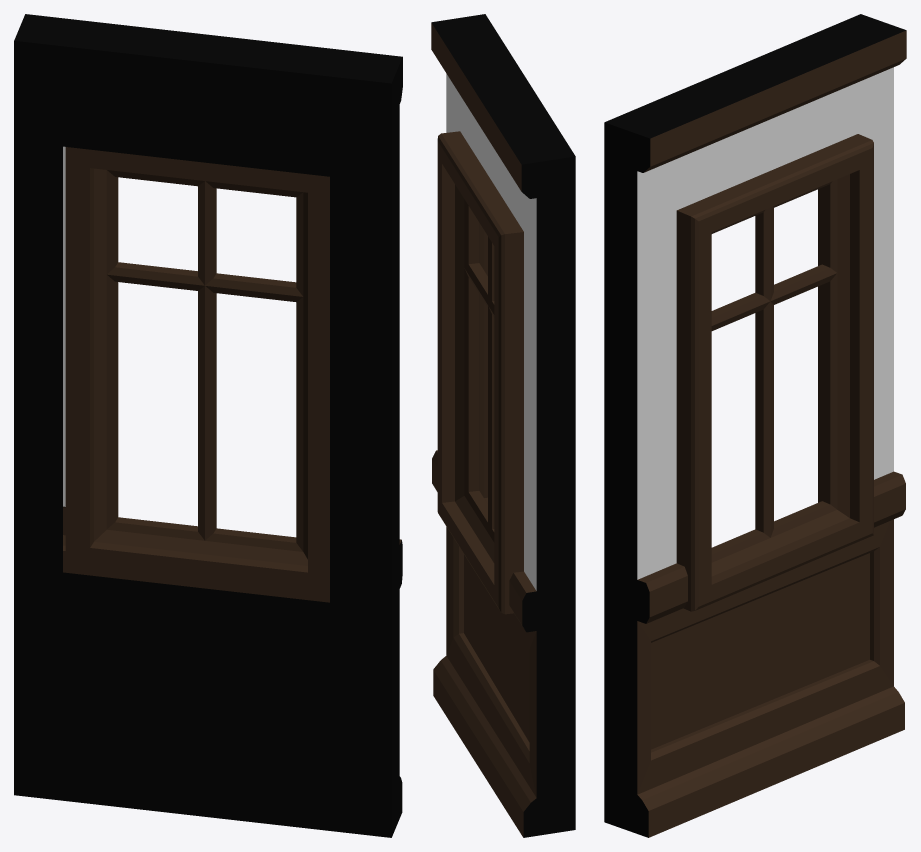
Rendered from Wall_01_Window_corner.fbx.
3 views of the same model, side by side, from view 1: azimuth 30°, elevation 25°; view 2: azimuth 150°, elevation 25°; view 3: azimuth 270°, elevation 25° (orthographic). The views are drawn at different scales.
Parts seen in each view (by area): view 1: Cube.109; view 2: Cube.109; view 3: Cube.109.
Part boxes in pixels (<box>): Cube.109: <box>14,14,402,837</box>; Cube.109: <box>431,14,575,837</box>; Cube.109: <box>604,14,906,837</box>.
Bounding box in the file's own units: 1.18 × 1.15 × 3.01.
